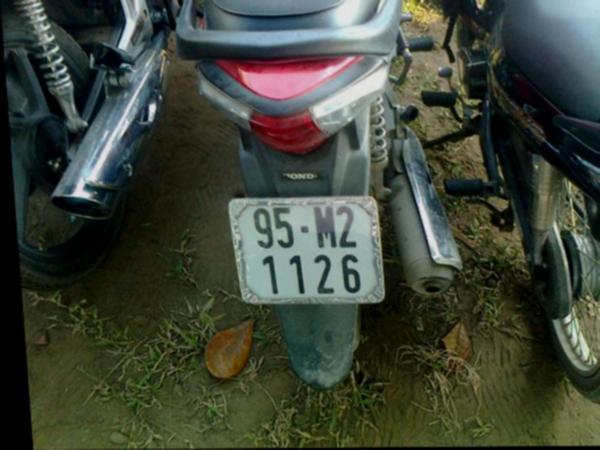License_Plate: (232, 199, 382, 302)
